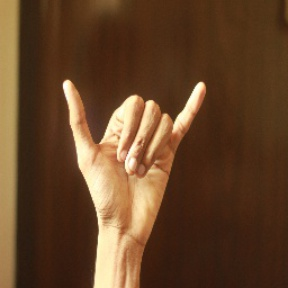J: (64, 61, 208, 230)
